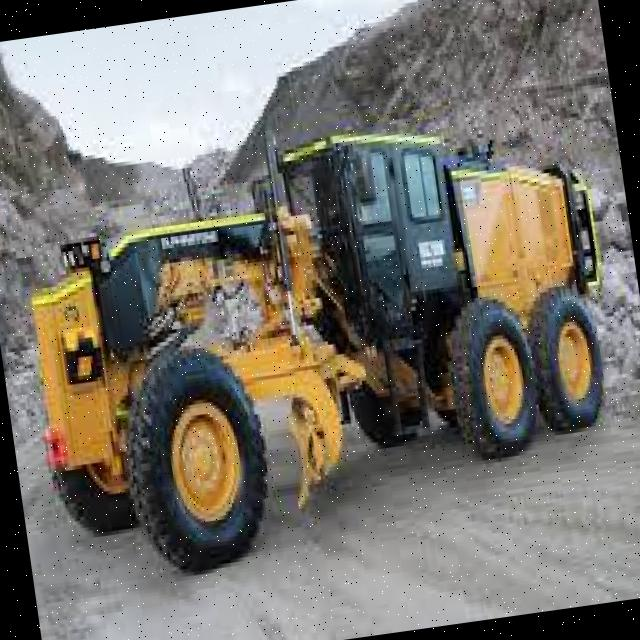Grader: (0, 78, 640, 570)
